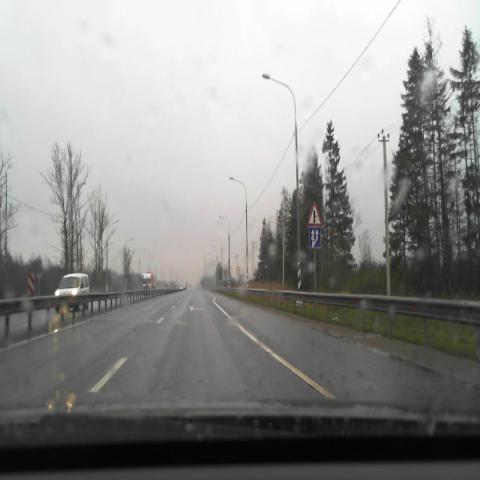2_3_2: (308, 203, 322, 226)
5_15_3: (309, 226, 321, 249)
